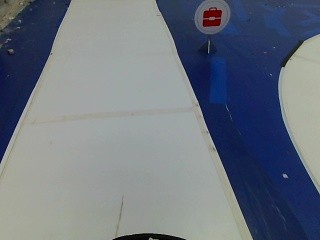company: (190, 0, 233, 34)
